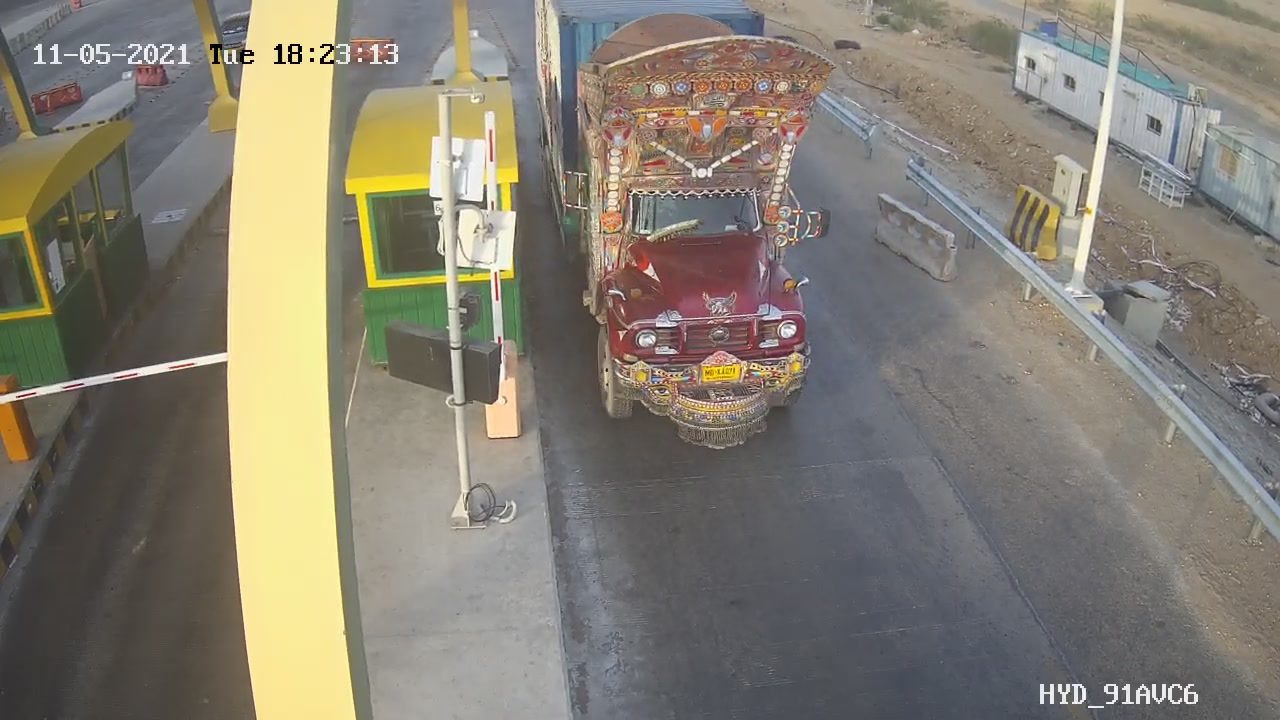F5: (542, 31, 840, 448)
